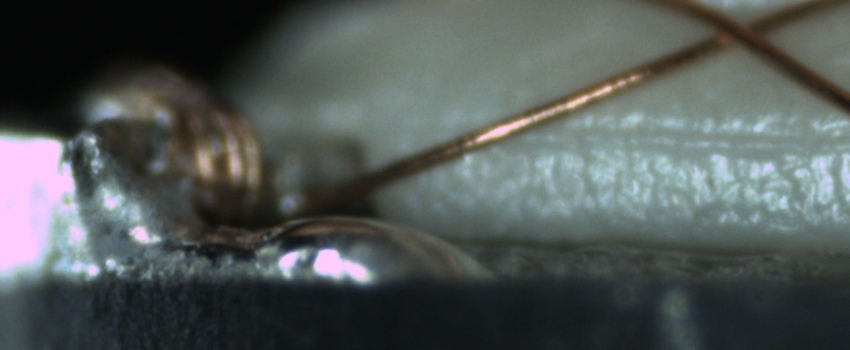CL: (691, 2, 784, 61)
DL: (507, 107, 850, 172)
TE: (109, 58, 274, 213)
